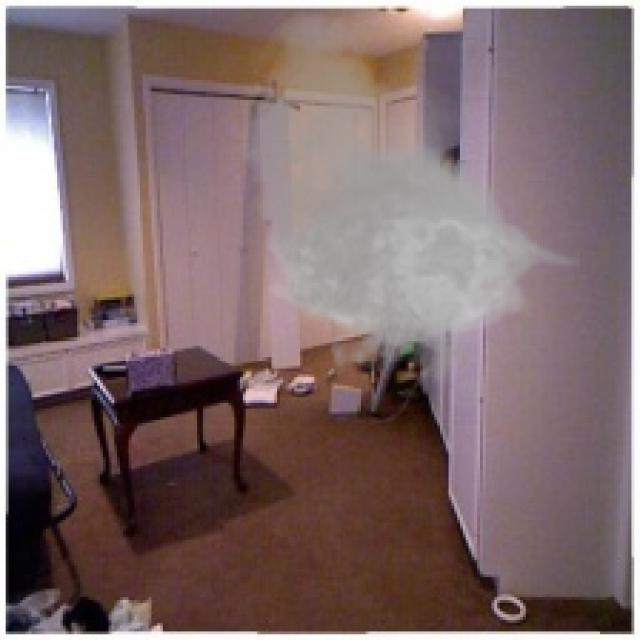Smoke: (228, 6, 586, 394)
